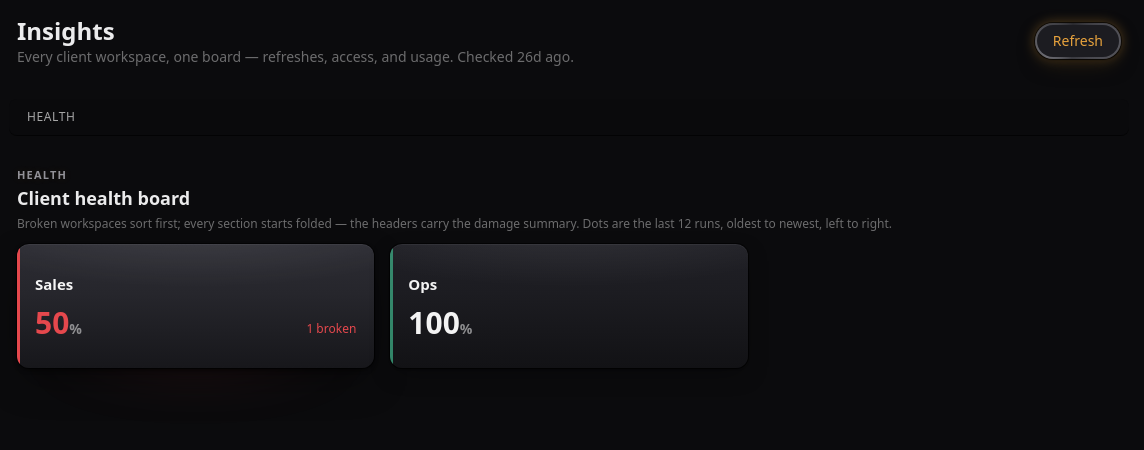
Test: InsightsPage — Luce board › surfaces a non-blocking banner when a refresh fails but stale data remains (E-H3)
Check: the button with aria-label "Open Sales details" is shown, box [17, 244, 374, 368]
Click the button "Refresh": (1078, 41) [1035, 23, 1121, 59]
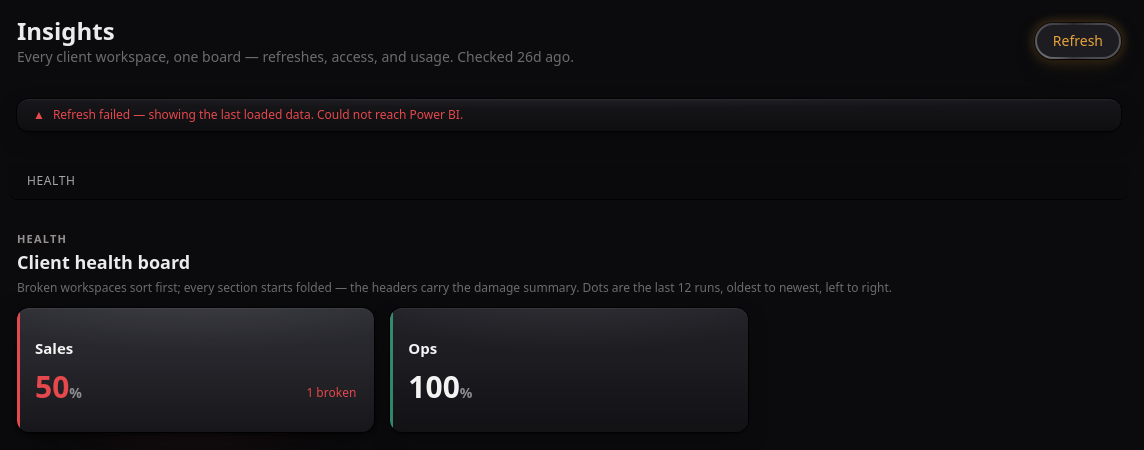
Check: the button with aria-label "Open Sales details" is shown, box [17, 308, 374, 432]
Check: the message shows "Refresh failed — showing the last loaded data.", box [53, 106, 317, 123]
Check: the message shows "Could not reach Power BI.", box [317, 106, 463, 123]
